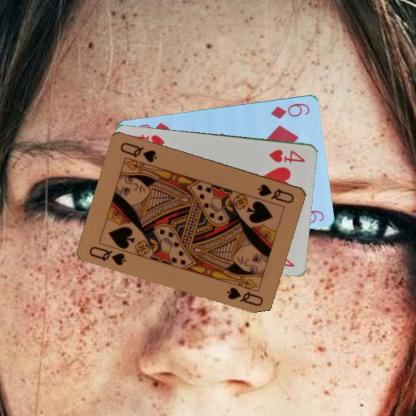4h: (266, 146, 307, 164)
6d: (269, 100, 311, 120)
Qs: (255, 181, 296, 205), (86, 243, 127, 267)
